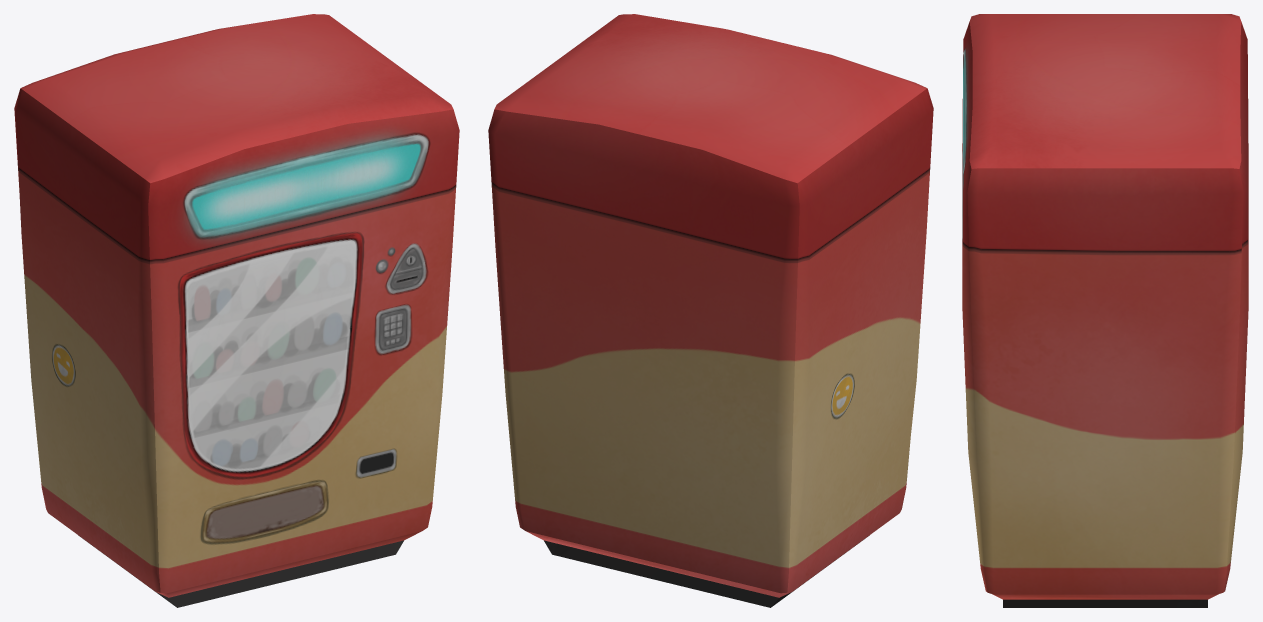
File: distributeur.fbx
3 renders of one model, left to right at view 1: azimuth 30°, elevation 25°; view 2: azimuth 150°, elevation 25°; view 3: azimuth 270°, elevation 25°, orthographic. The views are drawn at different scales.
Visible parts, largest first — view 1: distributeur; view 2: distributeur; view 3: distributeur.
Part boxes in pixels (x1,y1,x2,y2): distributeur: [14, 14, 459, 607]; distributeur: [488, 14, 933, 607]; distributeur: [962, 14, 1248, 607].
Size of the model in its own units: 99.92 by 140 by 75.45.
